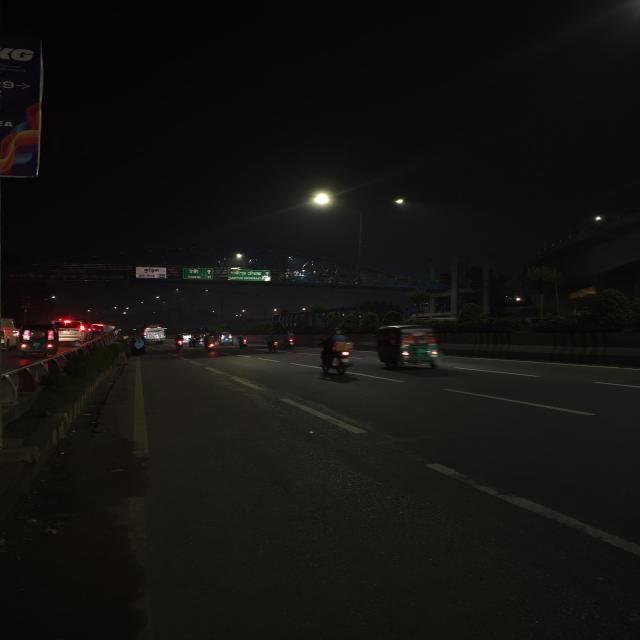bus: (142, 322, 167, 345)
car: (56, 320, 86, 343)
cng: (370, 322, 451, 372), (16, 322, 61, 355)
motorcycle: (317, 328, 359, 379), (263, 330, 300, 354), (201, 334, 222, 354), (235, 334, 253, 350), (173, 336, 186, 350)
pedestrian: (132, 334, 148, 354)
